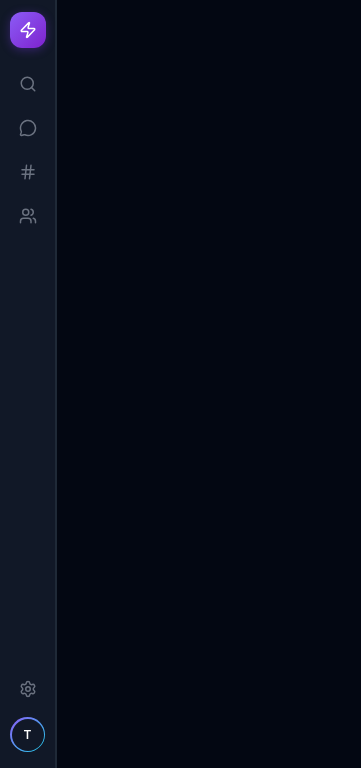
Test case: Sidebar — Messages panel scoped search › filters contacts by name as the user types
Click the button named "Messages" at (28, 128), box [8, 108, 48, 148]
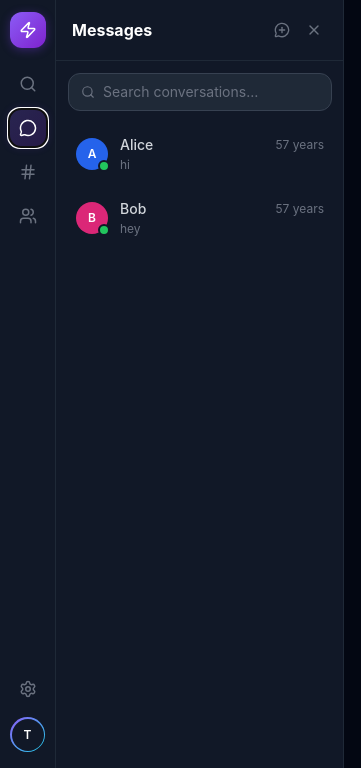
Type "Ali" into the field with placeholder "Search conversations…" at (211, 92), box [103, 82, 319, 102]
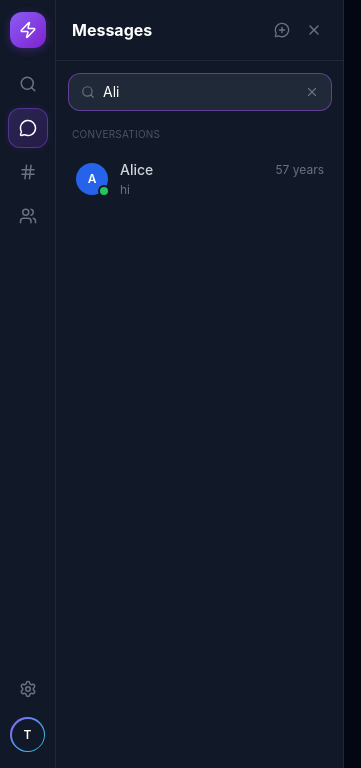
Expected: the text "Alice" is shown, [120, 160, 153, 180]
Expected: the button "Bob" is gone
